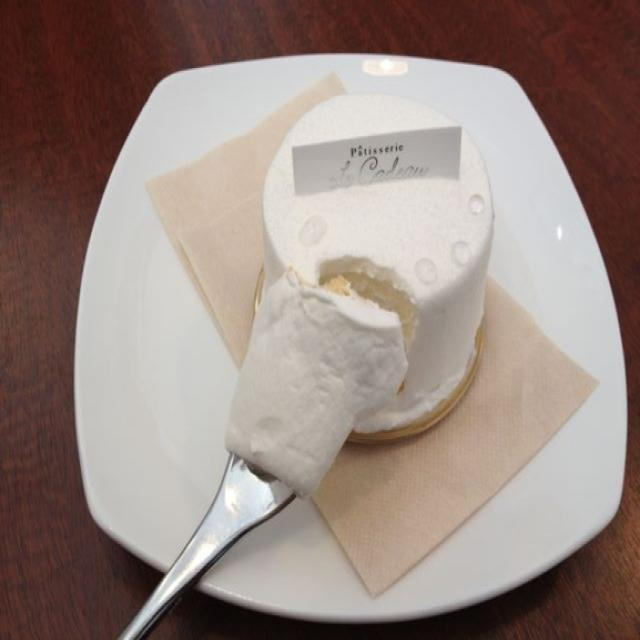汤锅炖物: (416, 223, 620, 460)
米饭主食: (47, 224, 330, 548)
鸡蛋料理: (383, 51, 540, 188)
